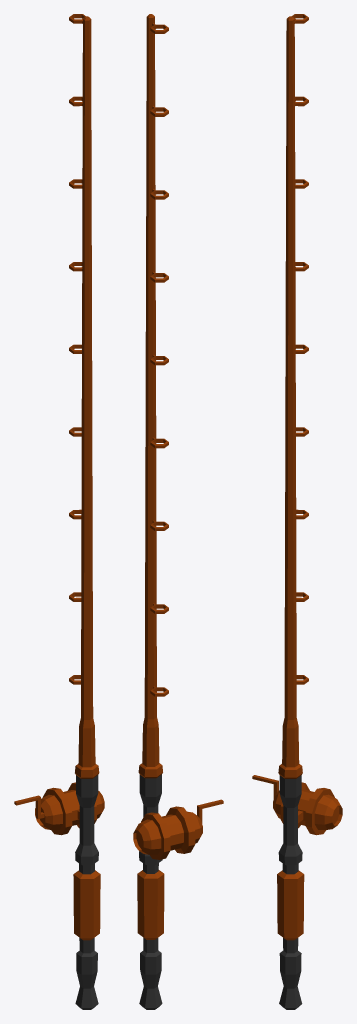
Rendered from FishingRod_Lvl5.glb.
The picture shows the model from 3 angles, left to right: view 1: azimuth 30°, elevation 25°; view 2: azimuth 210°, elevation 25°; view 3: azimuth 330°, elevation 25°; orthographic projection.
Parts seen in each view (by area): view 1: FishingRod_Lvl5; view 2: FishingRod_Lvl5; view 3: FishingRod_Lvl5.
Part boxes in pixels (bbox=[...]): FishingRod_Lvl5: bbox=[14, 14, 104, 1009]; FishingRod_Lvl5: bbox=[133, 14, 223, 1009]; FishingRod_Lvl5: bbox=[252, 14, 342, 1009].
Bounding box in the file's own units: 0.6921 × 7.78 × 0.5045.
